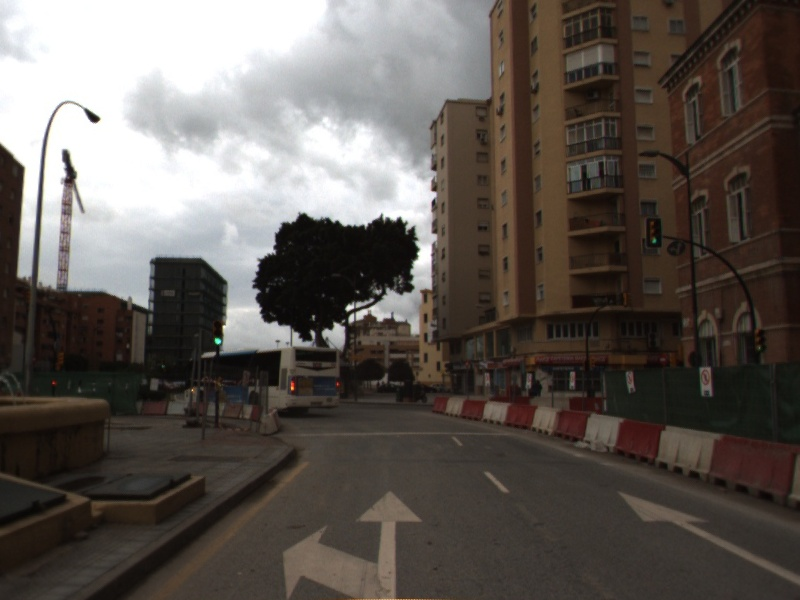STRAIGHT: (615, 488, 800, 585)
STRAIGHT_LEFT: (281, 489, 425, 600)
